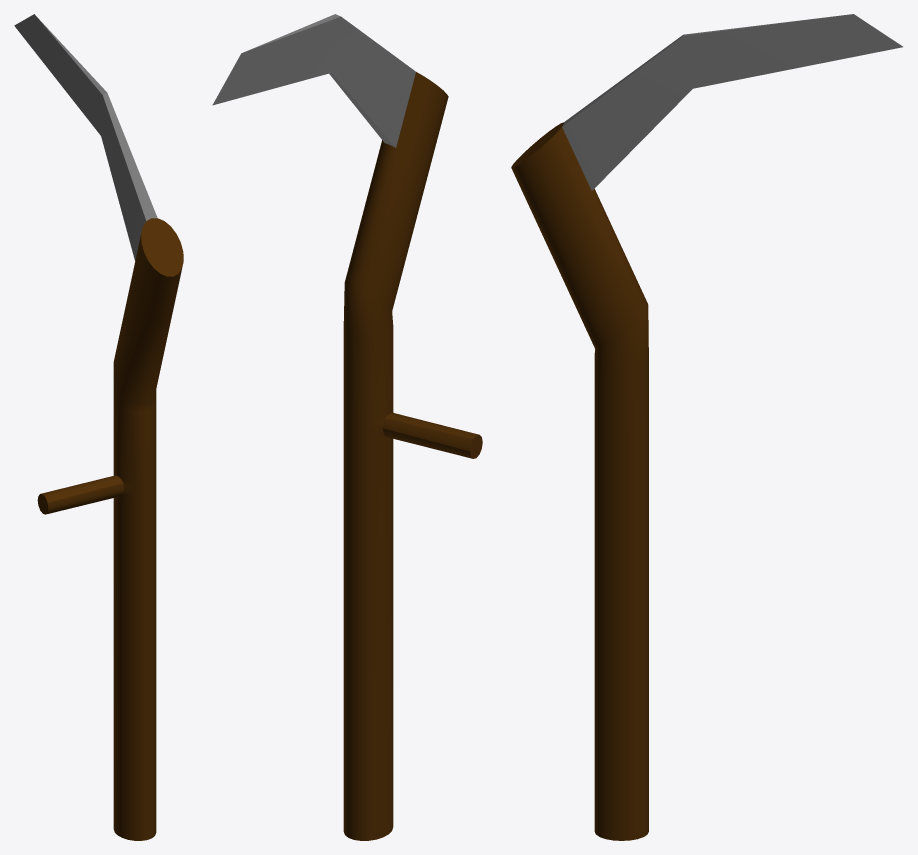
The model's file is ScytheEdits.fbx.
3 renders of one model, left to right at view 1: azimuth 30°, elevation 25°; view 2: azimuth 150°, elevation 25°; view 3: azimuth 270°, elevation 25°, orthographic. The views are drawn at different scales.
Visible parts, largest first — view 1: Cylinder; view 2: Cylinder; view 3: Cylinder.
Boxes of the visible parts, x1,y1,x2,y2 form: Cylinder: (14,14,183,840); Cylinder: (212,14,482,840); Cylinder: (511,14,902,840).
Bounding box in the file's own units: 28.24 × 182 × 79.11.
